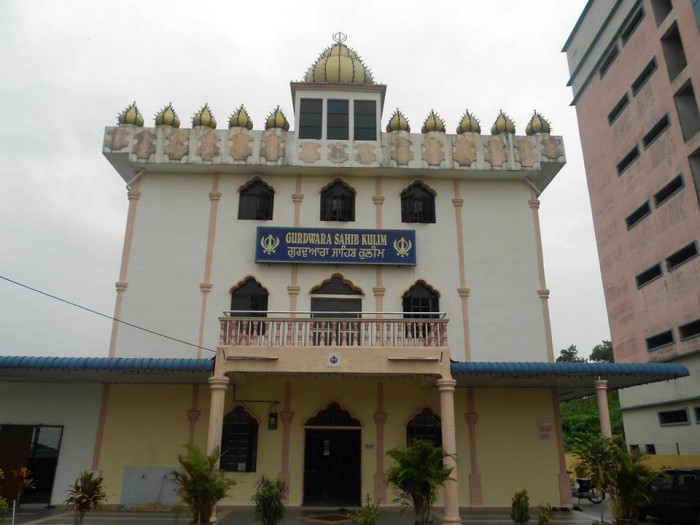Gurdwara: (114, 36, 562, 465)
